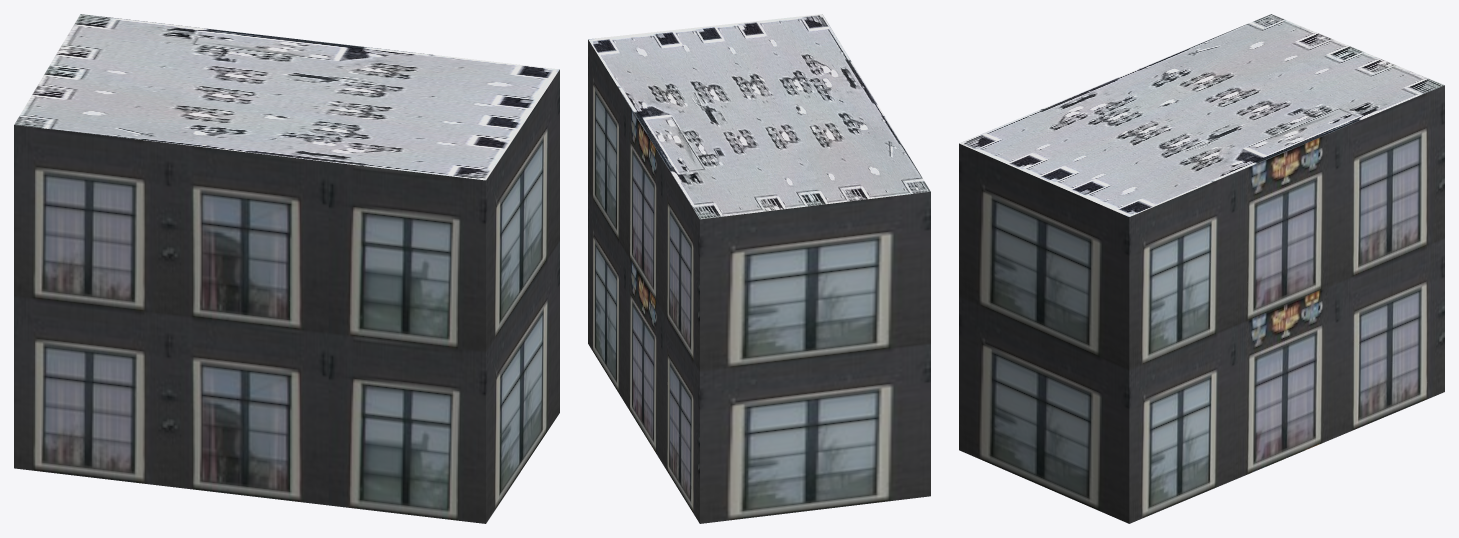
File: ResTex__1552.fbx
3 renders of one model, left to right at view 1: azimuth 30°, elevation 25°; view 2: azimuth 150°, elevation 25°; view 3: azimuth 270°, elevation 25°, orthographic. The views are drawn at different scales.
Parts seen in each view (by area): view 1: CityEngineMaterial_22_m, CityEngineMaterial_m; view 2: CityEngineMaterial_22_m, CityEngineMaterial_m; view 3: CityEngineMaterial_22_m, CityEngineMaterial_m.
Part boxes in pixels (left/top/right/bottom): CityEngineMaterial_22_m: left=14, top=70, right=559, bottom=523; CityEngineMaterial_m: left=14, top=14, right=559, bottom=180; CityEngineMaterial_22_m: left=588, top=39, right=930, bottom=523; CityEngineMaterial_m: left=588, top=14, right=930, bottom=219; CityEngineMaterial_22_m: left=959, top=85, right=1444, bottom=523; CityEngineMaterial_m: left=959, top=14, right=1444, bottom=216.
Bounding box in the file's own units: 8.52 × 6 × 8.61.
Materials: 2 (2 with a texture image).
